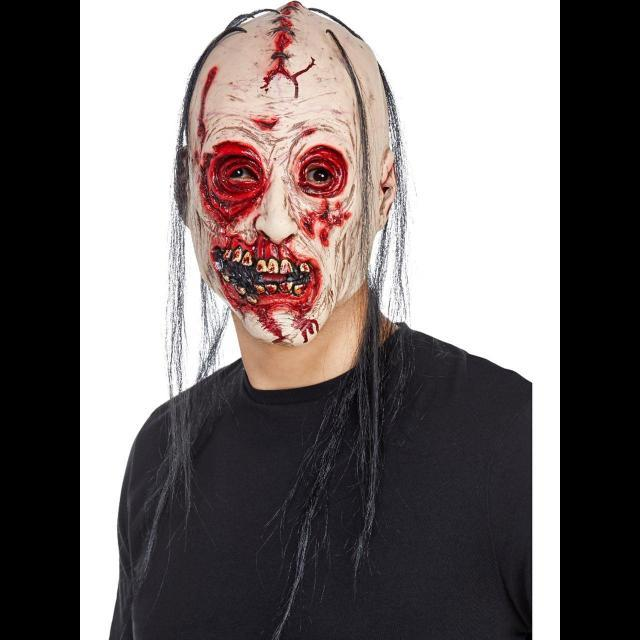blood: (199, 140, 320, 345), (260, 1, 314, 97), (296, 198, 352, 246), (298, 145, 347, 197), (196, 66, 217, 151), (250, 115, 279, 130), (301, 127, 317, 136)
